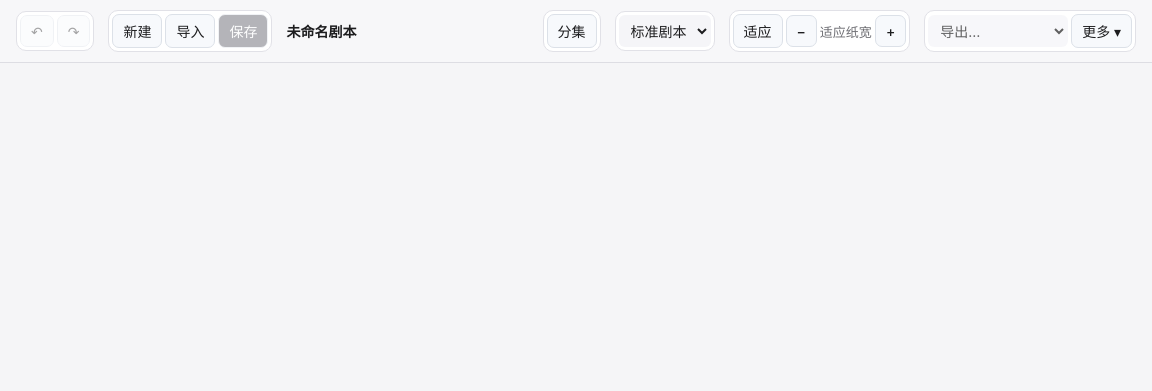
Test: 更多菜单收纳设置并能以 Escape 关闭
This screenshot has width=1152, height=391.
Expected: the text "设置…" is not shown
Click the button "更多 ▾". click: (1102, 31)
box: x1=1071 y1=14 x2=1132 y2=48
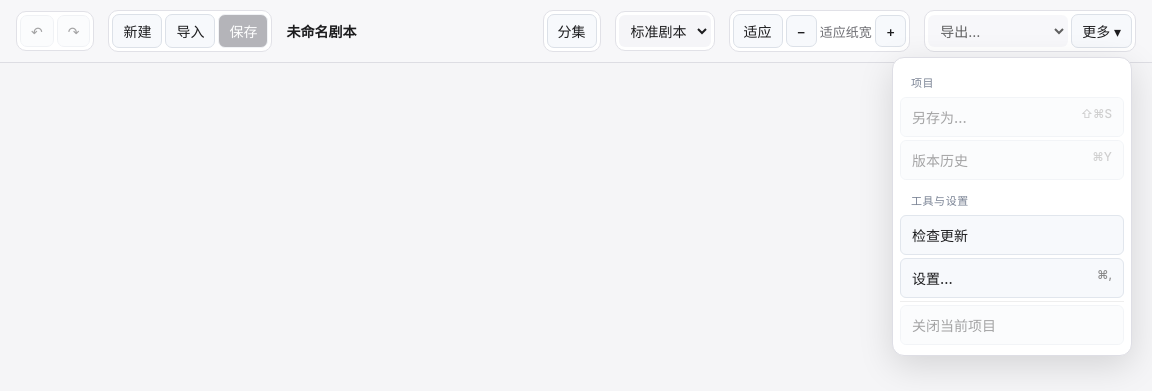
Click the button "设置… ⌘,". click: (1012, 278)
box: x1=900 y1=258 x2=1124 y2=298
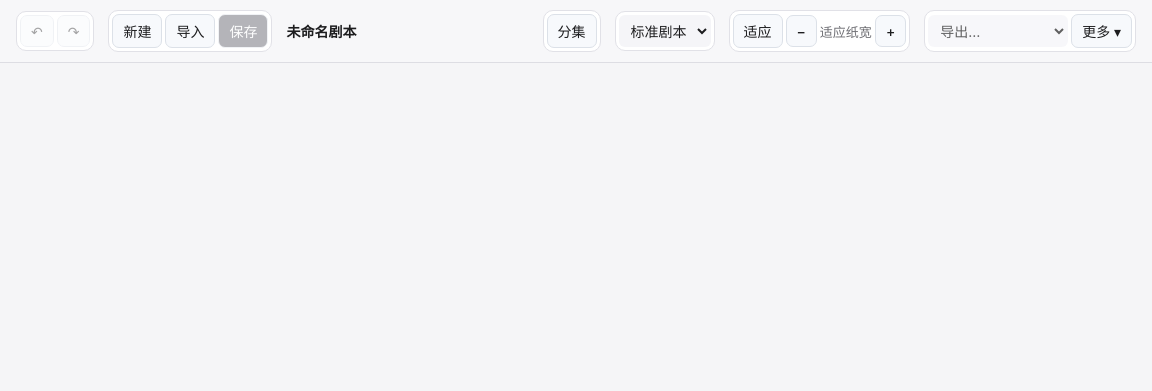
Click the button "更多 ▾". click: (1102, 31)
box: x1=1071 y1=14 x2=1132 y2=48
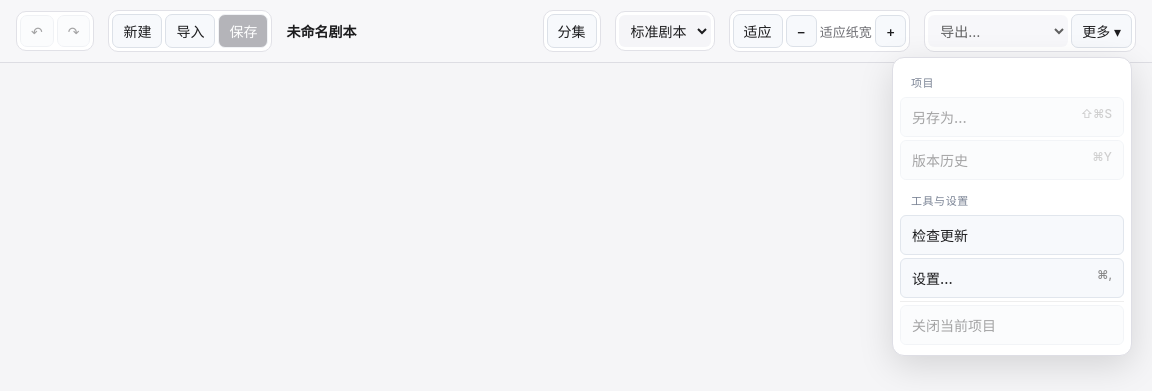
Press Escape
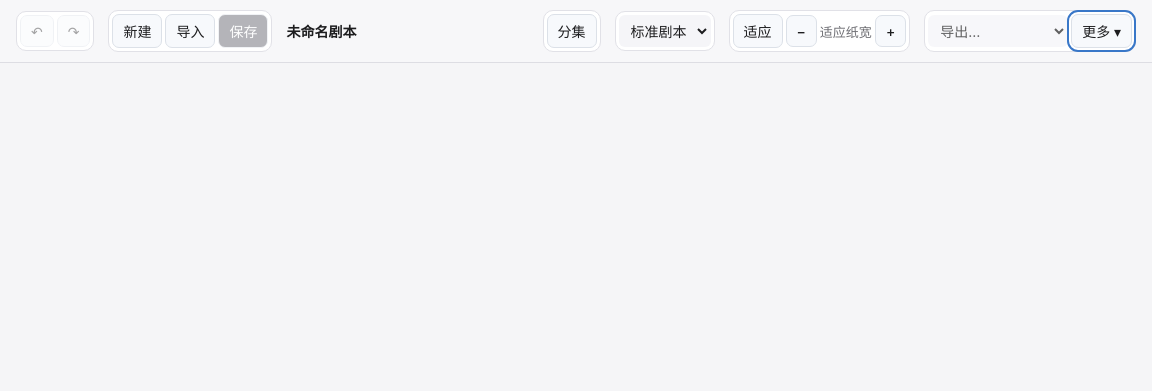
Expected: the button "设置…" is gone
